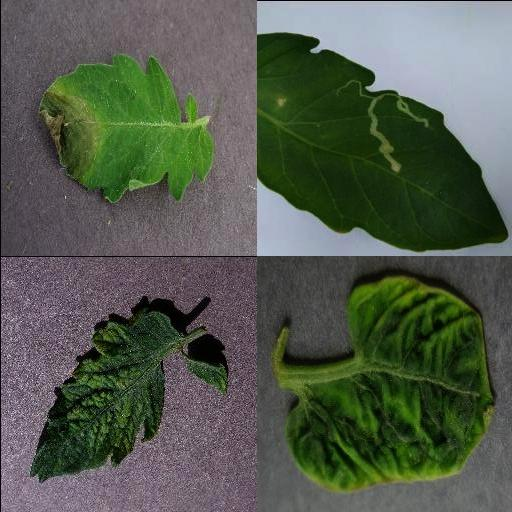Late Blight: (35, 55, 217, 203)
Leaf Miner: (256, 32, 507, 254)
Mosaic Virus: (28, 305, 226, 485)
Yellow Leaf Curl Virus: (283, 277, 495, 495)
